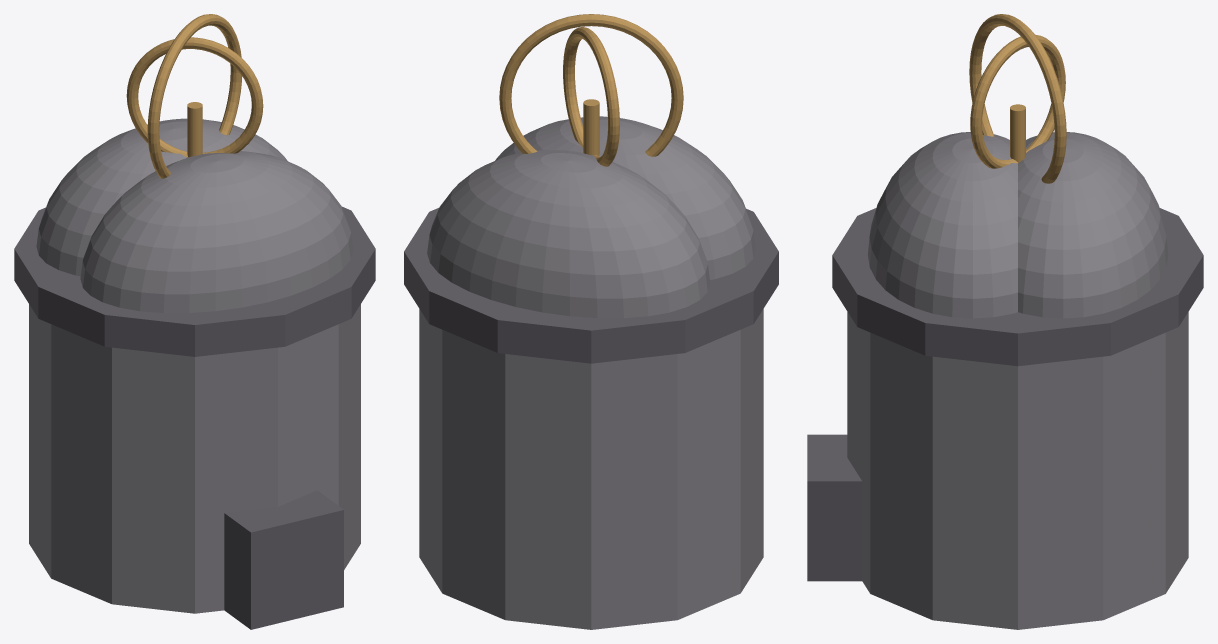
The model's file is observatory.glb.
3 renders of one model, left to right at view 1: azimuth 30°, elevation 25°; view 2: azimuth 150°, elevation 25°; view 3: azimuth 270°, elevation 25°, orthographic. The views are drawn at different scales.
Parts seen in each view (by area): view 1: Cylinder, Sphere, Cylinder.001, Cube, Sphere.001, Torus.001, Torus, Cylinder.002; view 2: Cylinder, Sphere.001, Cylinder.001, Sphere, Torus, Torus.001, Cylinder.002; view 3: Cylinder, Sphere, Sphere.001, Cylinder.001, Cube, Torus, Torus.001, Cylinder.002.
Boxes of the visible parts, box(x1,y1,x2,y2) form: Cylinder: box(29, 304, 360, 613); Sphere: box(80, 151, 353, 312); Cylinder.001: box(14, 206, 375, 356); Cube: box(224, 490, 343, 629); Sphere.001: box(36, 118, 287, 276); Torus.001: box(126, 37, 263, 157); Torus: box(147, 14, 241, 178); Cylinder.002: box(187, 102, 202, 157); Cylinder: box(419, 309, 763, 629); Sphere.001: box(427, 150, 710, 318); Cylinder.001: box(404, 207, 778, 363); Sphere: box(495, 116, 755, 279); Torus: box(499, 14, 683, 156); Torus.001: box(563, 27, 619, 166); Cylinder.002: box(583, 99, 599, 155); Cylinder: box(847, 312, 1188, 629); Sphere: box(868, 132, 1017, 318); Sphere.001: box(1018, 132, 1168, 318); Cylinder.001: box(832, 208, 1203, 366); Cube: box(807, 434, 862, 581); Torus: box(969, 14, 1066, 183); Torus.001: box(970, 34, 1065, 168); Cylinder.002: box(1010, 104, 1025, 162).
Bounding box in the file's own units: 3.7 × 5.91 × 3.95.
